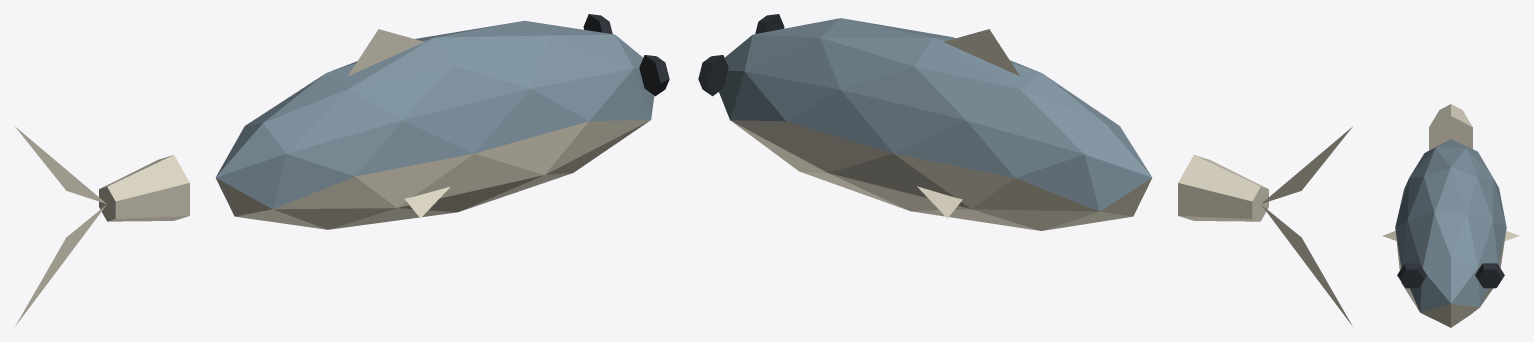
File: raw_fish.glb
The picture shows the model from 3 angles, left to right: view 1: azimuth 30°, elevation 25°; view 2: azimuth 150°, elevation 25°; view 3: azimuth 270°, elevation 25°; orthographic projection. The views are drawn at different scales.
Parts seen in each view (by area): view 1: raw_fish.001; view 2: raw_fish.001; view 3: raw_fish.001.
Part boxes in pixels (x1,y1,x2,y2): raw_fish.001: (15, 14, 669, 326); raw_fish.001: (698, 14, 1352, 326); raw_fish.001: (1382, 104, 1519, 327).
Size of the model in its own units: 0.34 by 0.106 by 0.0903.
